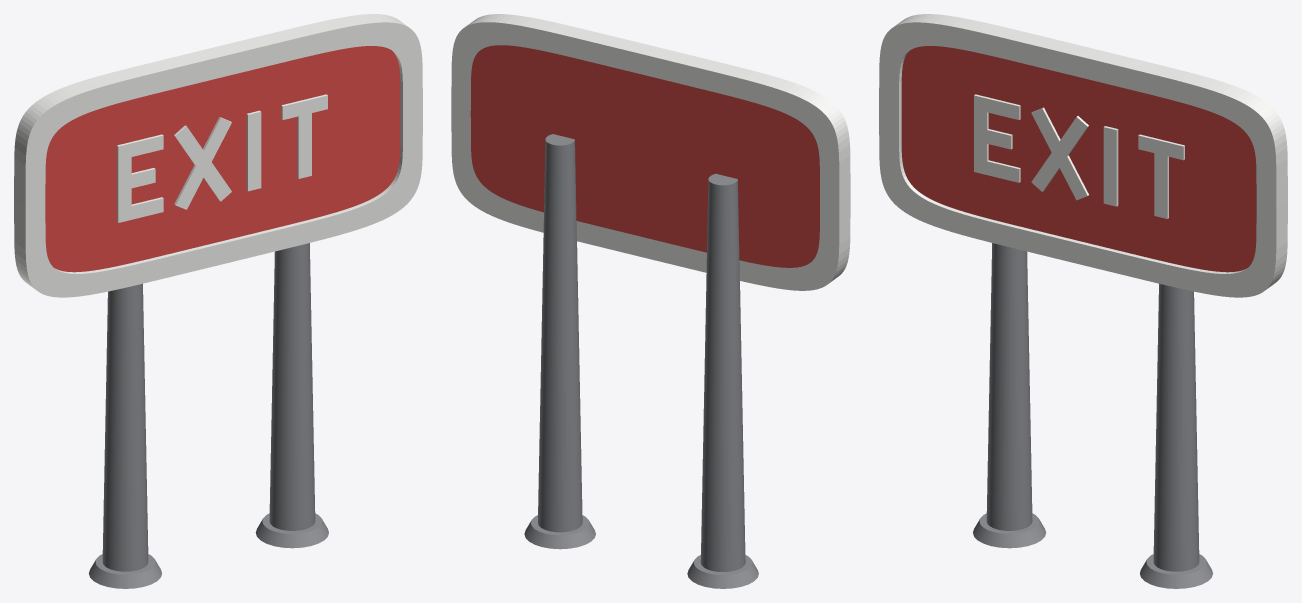
File: ExitSign.fbx
3 renders of one model, left to right at view 1: azimuth 30°, elevation 25°; view 2: azimuth 150°, elevation 25°; view 3: azimuth 330°, elevation 25°, orthographic. The views are drawn at different scales.
Visible parts, largest first — view 1: ExitSign; view 2: ExitSign; view 3: ExitSign.
Boxes of the visible parts, x1=… form: ExitSign: x1=14, y1=14, x2=422, y2=588; ExitSign: x1=451, y1=14, x2=850, y2=588; ExitSign: x1=879, y1=14, x2=1287, y2=588.
Bounding box in the file's own units: 180 × 220 × 28.8.
